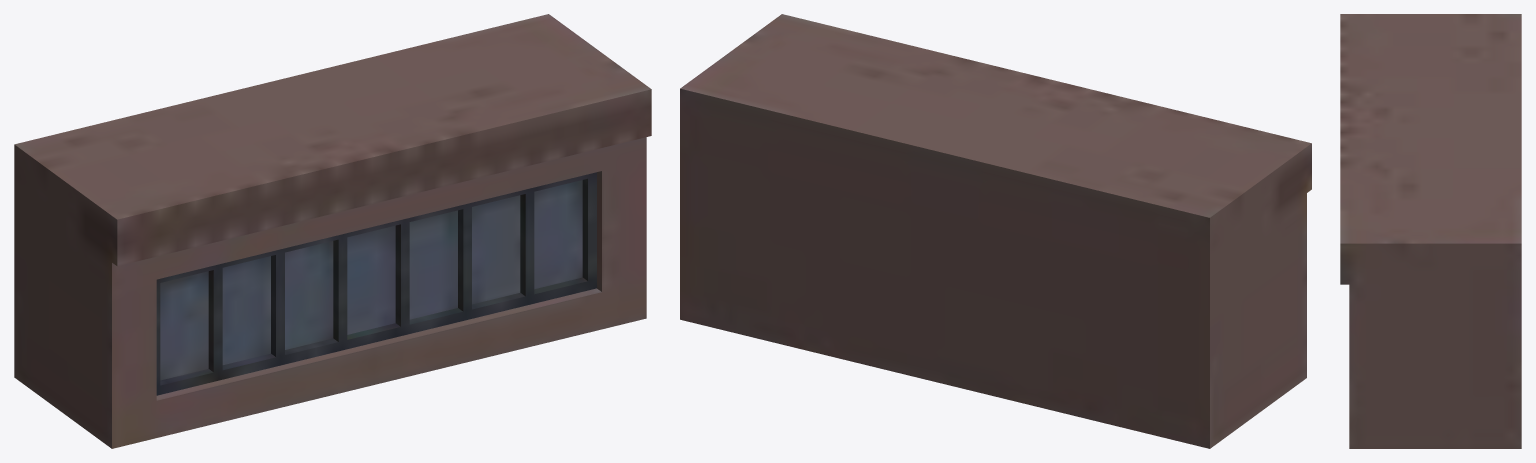
The model's file is BuildingBlock_2.glb.
3 renders of one model, left to right at view 1: azimuth 30°, elevation 25°; view 2: azimuth 150°, elevation 25°; view 3: azimuth 270°, elevation 25°, orthographic. The views are drawn at different scales.
Parts seen in each view (by area): view 1: BuildingBlock_2; view 2: BuildingBlock_2; view 3: BuildingBlock_2.
Boxes of the visible parts, box(x1,y1,x2,y2) form: BuildingBlock_2: box(14, 14, 651, 448); BuildingBlock_2: box(680, 14, 1311, 448); BuildingBlock_2: box(1340, 14, 1521, 448).
Bounding box in the file's own units: 6 × 2.5 × 2.
1 material, 1 textured.
